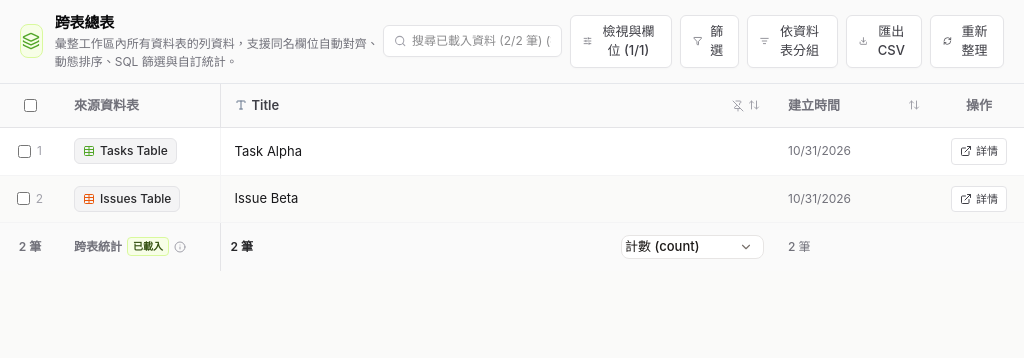
Test: MasterGridView UI Component › supports toggling Group by Table mode and collapsing/expanding table groups
Check: the text "Task Alpha" is shown, box [234,142,302,161]
Check: the text "Issue Beta" is shown, box [234,189,298,208]
Click "依資料表分組" button
Click the button with test id "toggle-group-by-table-btn": (792,41) [747,15,838,68]
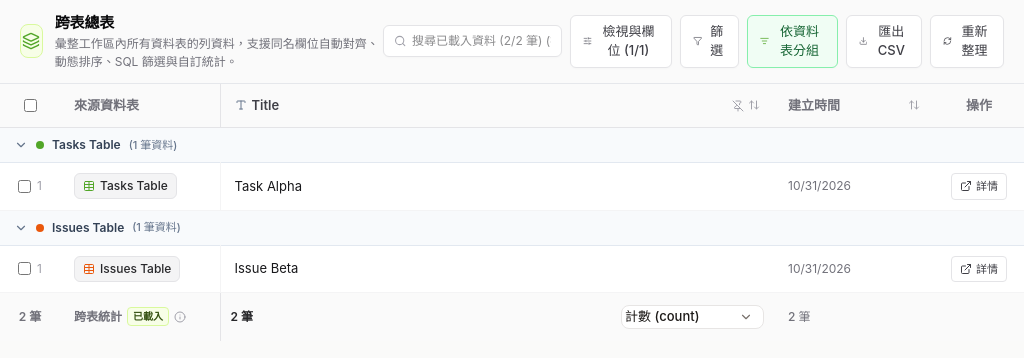
Check: the text "(1 筆資料)" is shown 2 times, box [129,137,177,153]; [132,219,181,236]
Click group header row for Tasks Table
Click the text "Tasks Table": (512,145) [0,128,1023,162]
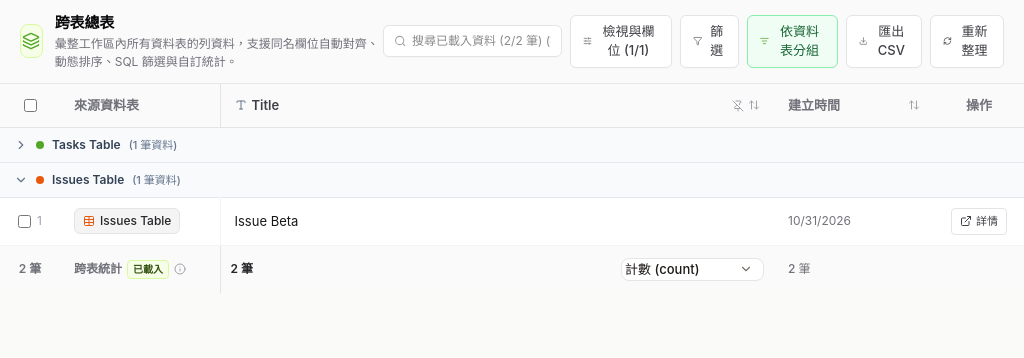
Check: the text "Issue Beta" is shown, box [234,212,298,231]
Check: the text "Task Alpha" is gone
Click again to re-expand
Click the text "Tasks Table": (512,145) [0,128,1023,162]
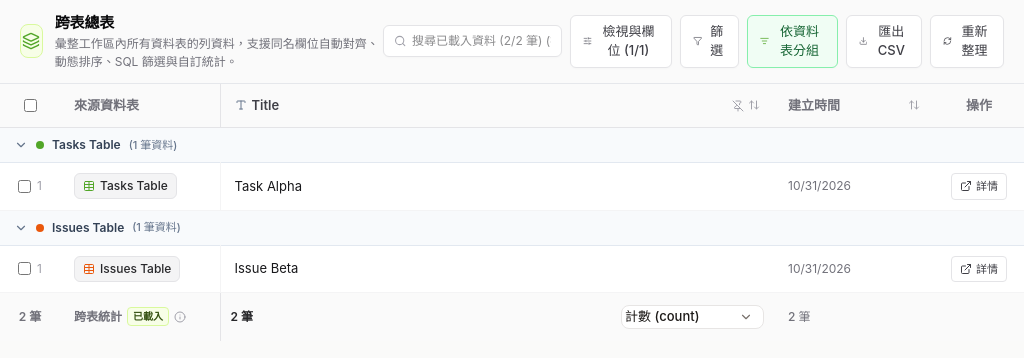
Check: the text "Task Alpha" is shown, box [234,176,302,196]
